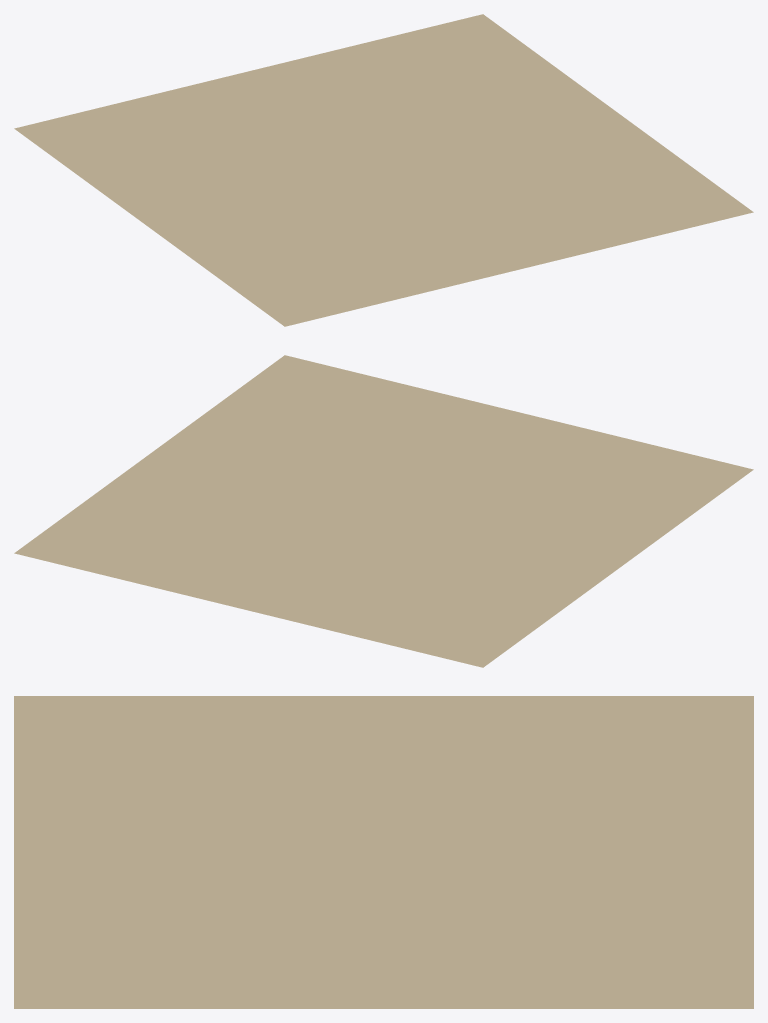
Rendered from ceiling_arms.glb.
3 views of the same model, one above another, from view 1: azimuth 30°, elevation 25°; view 2: azimuth 150°, elevation 25°; view 3: azimuth 270°, elevation 25° (orthographic). The views are drawn at different scales.
Visible parts, largest first — view 1: feld; view 2: feld; view 3: feld.
Boxes of the visible parts, box(x1,y1,x2,y2) form: feld: box(14, 14, 753, 326); feld: box(14, 355, 753, 667); feld: box(14, 696, 753, 1008).
Size of the model in its own units: 1.6 by 0.0035 by 1.6.
